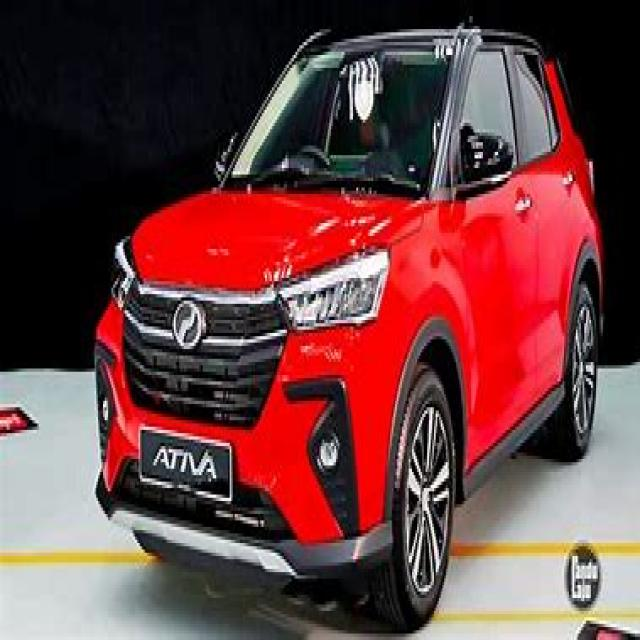PeroduaAtiva: (100, 5, 624, 618)
